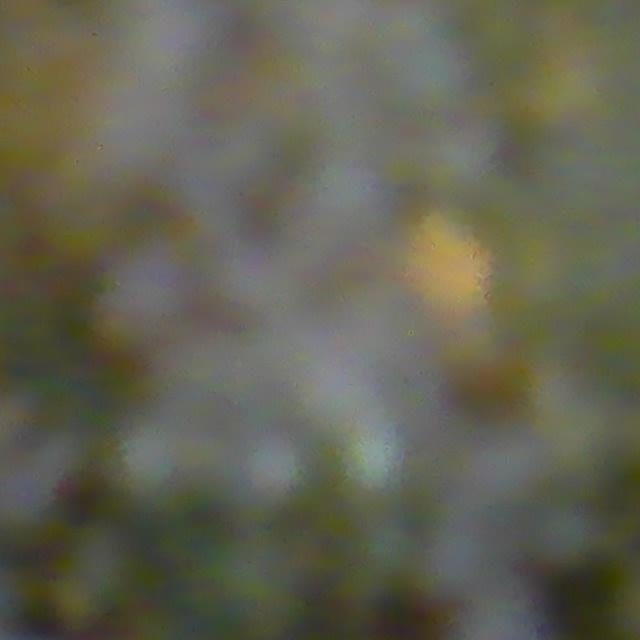SeaGrape: (94, 253, 177, 357), (373, 15, 452, 115), (235, 420, 310, 524), (111, 411, 186, 511), (314, 157, 382, 261), (440, 124, 498, 194)
